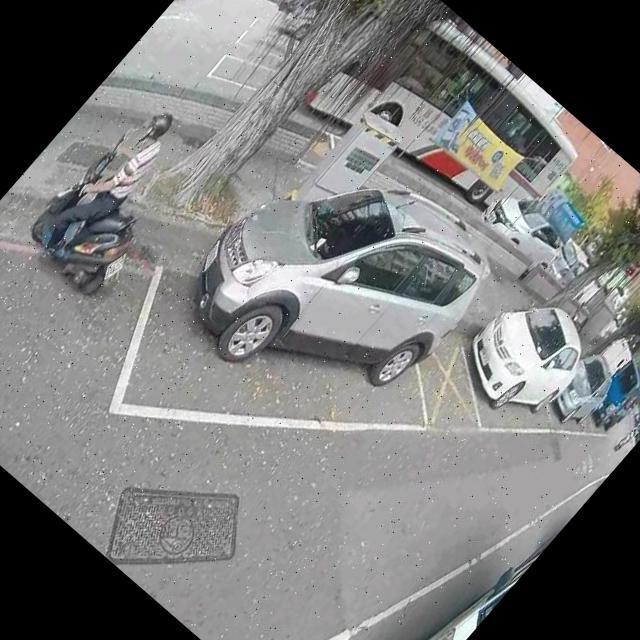person: (23, 96, 192, 280), (278, 0, 312, 11), (626, 418, 640, 439)
